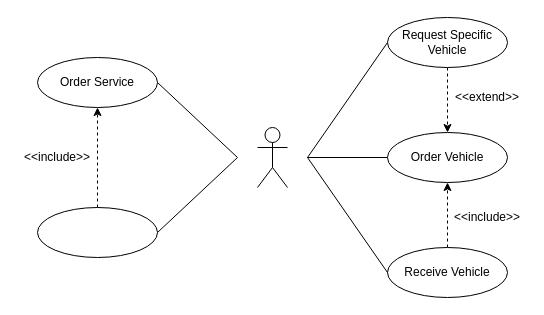
The diagram is 544 pixels wide and 315 high, and some of its shapes have lost their labels. The centre of each missing label's shape, as x and y in pixels:
"Customer" belongs at (x=272, y=157).
"Use Service" belongs at (x=97, y=232).
